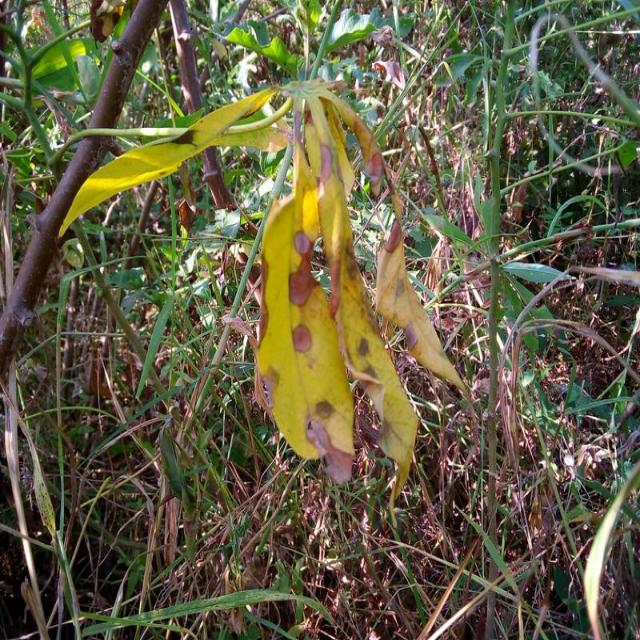cassava leaf: (57, 74, 467, 516), (254, 110, 356, 484), (56, 83, 289, 238)
